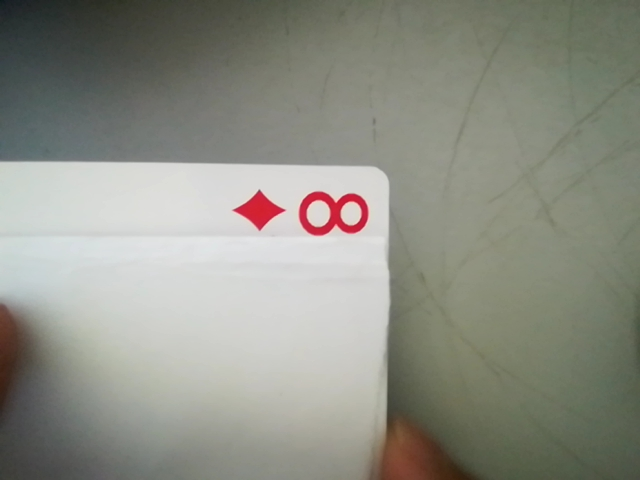fk 8: (241, 180, 389, 242)
